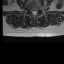CCS_normal: (33, 8, 35, 16)
LFS_severe_stenosis: (37, 7, 39, 12)
LLS_normal: (35, 8, 37, 15)
RFS_severe_stenosis: (29, 7, 31, 13)
RLS_normal: (31, 9, 33, 15)
